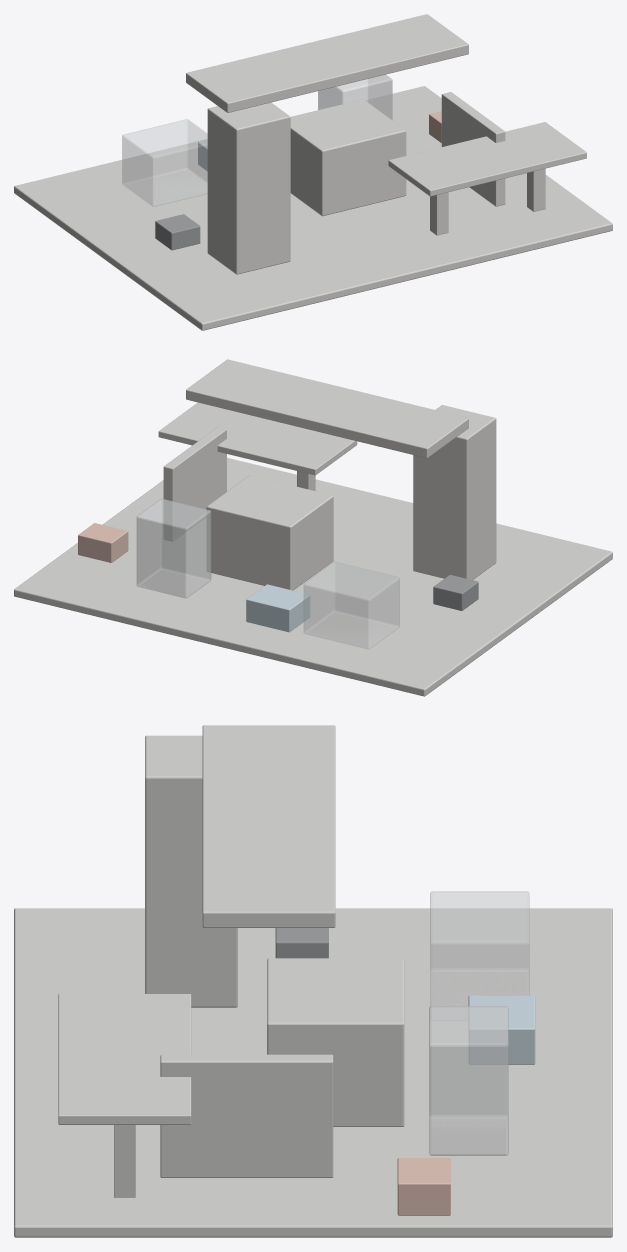
File: architecture.glb
The picture shows the model from 3 angles, top to bottom: view 1: azimuth 30°, elevation 25°; view 2: azimuth 150°, elevation 25°; view 3: azimuth 270°, elevation 25°; orthographic projection. The views are drawn at different scales.
Parts seen in each view (by area): view 1: Base, Tower, SpanSlab, CourtBlock, Cantilever, AcrylicClear, ThinWall, AcrylicFrosted, AccentCharcoal, PilotisB, PilotisA; view 2: Base, SpanSlab, Tower, CourtBlock, Cantilever, AcrylicClear, AcrylicFrosted, ThinWall, AccentBlue, AccentTerracotta, AccentCharcoal; view 3: Base, SpanSlab, ThinWall, CourtBlock, Tower, Cantilever, AcrylicFrosted, AcrylicClear, AccentBlue, AccentTerracotta, AccentCharcoal, PilotisB.
Part boxes in pixels (bbox=[...]): Base: bbox=[14, 86, 612, 330]; Tower: bbox=[207, 102, 290, 274]; SpanSlab: bbox=[186, 14, 468, 112]; CourtBlock: bbox=[290, 99, 406, 216]; Cantilever: bbox=[388, 122, 586, 196]; AcrylicClear: bbox=[122, 119, 207, 206]; ThinWall: bbox=[441, 92, 505, 206]; AcrylicFrosted: bbox=[318, 74, 392, 120]; AccentCharcoal: bbox=[155, 214, 200, 250]; PilotisB: bbox=[527, 168, 545, 211]; PilotisA: bbox=[430, 192, 448, 235]; Base: bbox=[14, 458, 612, 696]; SpanSlab: bbox=[186, 359, 468, 458]; Tower: bbox=[413, 405, 496, 579]; CourtBlock: bbox=[206, 475, 333, 590]; Cantilever: bbox=[158, 402, 357, 475]; AcrylicClear: bbox=[303, 561, 399, 649]; AcrylicFrosted: bbox=[136, 498, 211, 598]; ThinWall: bbox=[163, 427, 226, 541]; AccentBlue: bbox=[246, 584, 310, 632]; AccentTerracotta: bbox=[78, 523, 128, 562]; AccentCharcoal: bbox=[433, 574, 478, 610]; Base: bbox=[14, 908, 612, 1237]; SpanSlab: bbox=[202, 725, 335, 927]; ThinWall: bbox=[160, 1054, 333, 1177]; CourtBlock: bbox=[267, 958, 404, 1126]; Tower: bbox=[145, 735, 237, 1007]; Cantilever: bbox=[58, 994, 191, 1124]; AcrylicFrosted: bbox=[429, 1006, 508, 1155]; AcrylicClear: bbox=[430, 891, 529, 1006]; AccentBlue: bbox=[468, 995, 535, 1064]; AccentTerracotta: bbox=[397, 1158, 450, 1215]; AccentCharcoal: bbox=[275, 928, 328, 958]; PilotisB: bbox=[114, 1125, 135, 1197].
Size of the model in its own units: 0.34 by 0.1295 by 0.27.
